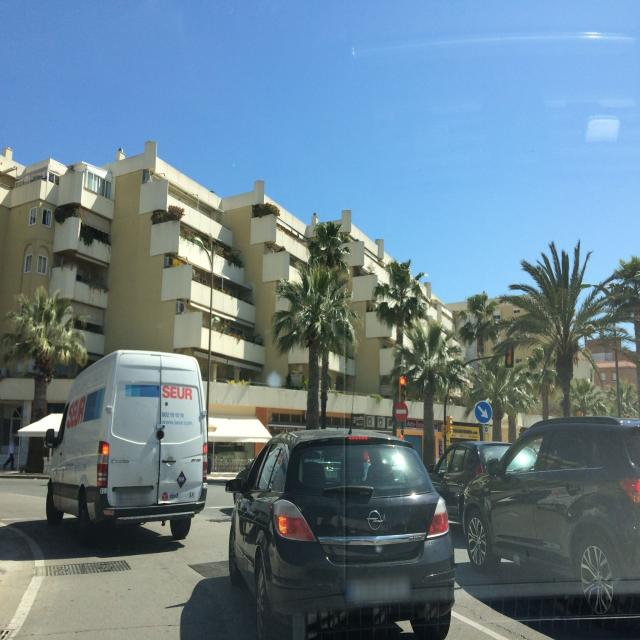car: (225, 427, 456, 640), (462, 414, 640, 616), (45, 349, 208, 544), (428, 440, 514, 537)
